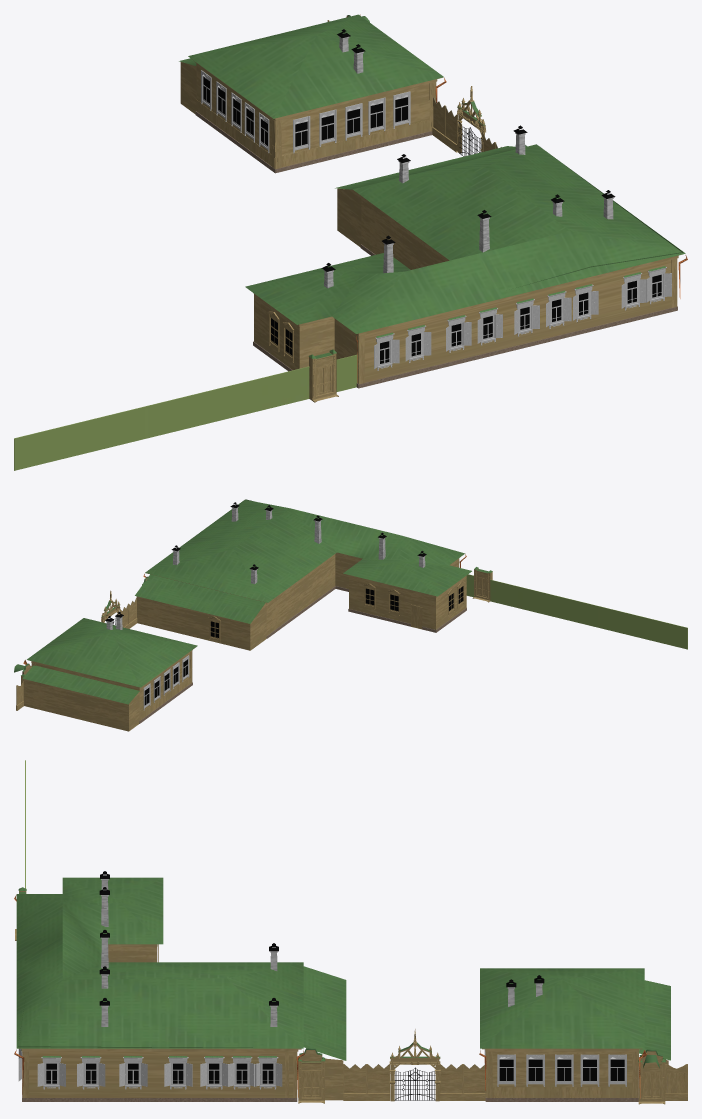
Rendered from luginHouse.glb.
3 views of the same model, one above another, from view 1: azimuth 30°, elevation 25°; view 2: azimuth 150°, elevation 25°; view 3: azimuth 270°, elevation 25° (orthographic). The views are drawn at different scales.
Visible parts, largest first — view 1: Plane.037_bake.001_0; view 2: Plane.037_bake.001_0; view 3: Plane.037_bake.001_0.
Boxes of the visible parts, x1,y1,x2,y2 form: Plane.037_bake.001_0: (14, 14, 687, 470); Plane.037_bake.001_0: (14, 499, 687, 731); Plane.037_bake.001_0: (14, 760, 687, 1104).
Bounding box in the file's own units: 26 × 3.88 × 23.29.
Materials: 1 (1 with a texture image).
